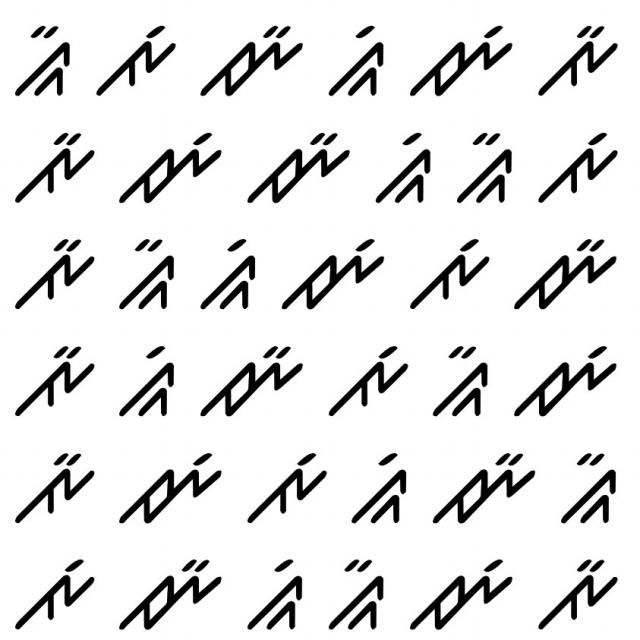an: (7, 440, 105, 530), (532, 13, 618, 103), (9, 340, 104, 420), (537, 550, 622, 636), (9, 127, 100, 203), (12, 228, 94, 310)
ang: (80, 18, 182, 98), (9, 548, 96, 634), (246, 447, 332, 531), (409, 233, 496, 314), (324, 336, 409, 418), (536, 127, 623, 205)
nggan: (443, 128, 527, 206), (4, 11, 76, 100), (547, 447, 621, 532), (430, 342, 498, 429), (111, 232, 182, 315), (327, 553, 389, 637)
nggang: (193, 229, 263, 312), (346, 443, 412, 531), (370, 128, 440, 209), (115, 344, 184, 424), (326, 21, 390, 102), (244, 553, 306, 634)
njan: (508, 228, 621, 325), (193, 342, 313, 425), (432, 442, 536, 536), (119, 548, 226, 637), (240, 128, 353, 210), (200, 24, 310, 105)
njang: (276, 233, 389, 322), (113, 440, 226, 526), (408, 550, 516, 638), (115, 123, 224, 208), (409, 15, 514, 103), (510, 343, 618, 422)
